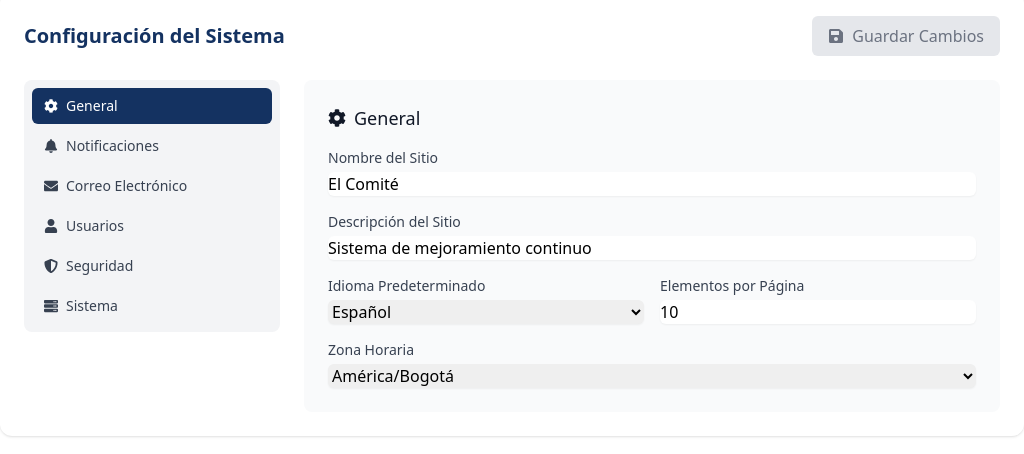
it: ConfigurationManagement › should render Users form when tab is clicked
Click the button "Usuarios" at (152, 226), box [32,208,272,244]
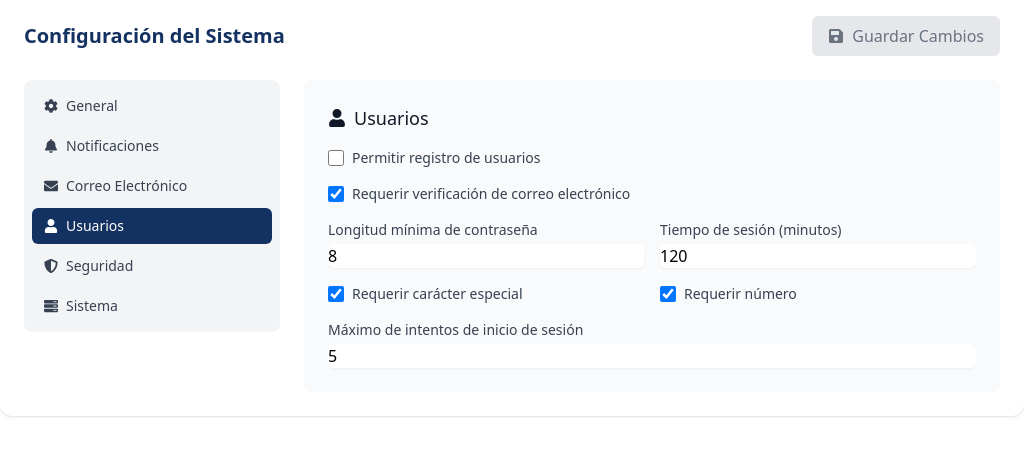
Check: the checkbox labelled "Permitir registro de usuarios" is shown, box [328,150,344,166]
Check: the number field labelled "Longitud mínima de contraseña" is shown
Replace the text in the number field labelled "Longitud mínima de contraseña" with "10" at (486, 256), box [328,244,644,268]
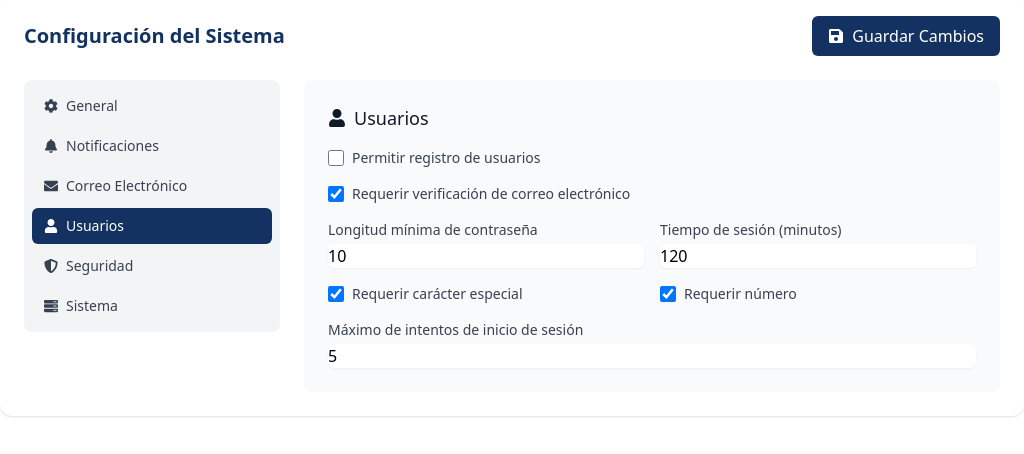
Check: the button "Guardar Cambios" is enabled, box [812,16,1000,56]
